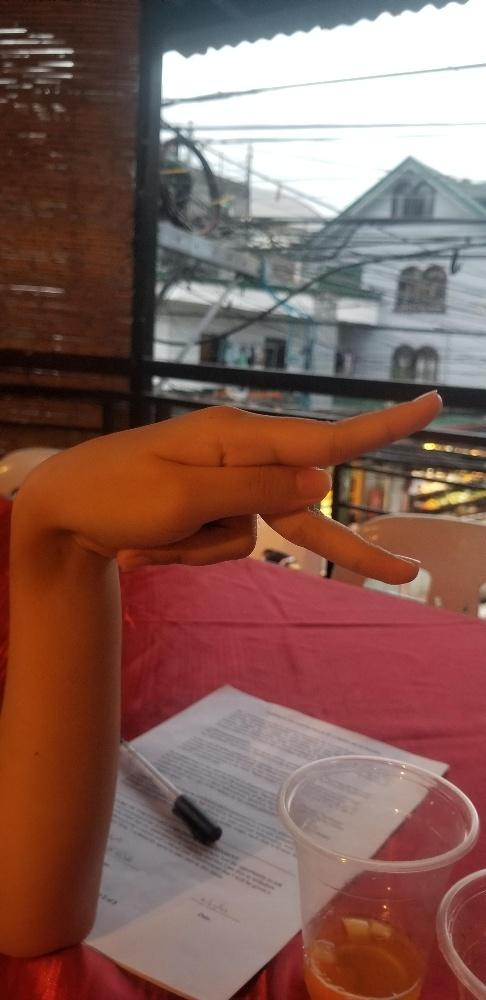p: (8, 386, 442, 585)
